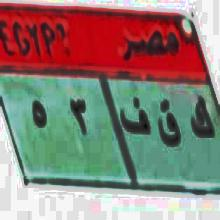3: (69, 93, 90, 148)
5: (29, 93, 49, 143)
faa: (119, 96, 151, 148)
kaaf: (188, 95, 216, 151)
qaaf: (157, 97, 181, 160)
